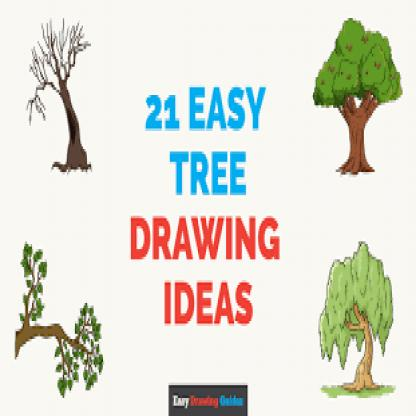branch_cut: (336, 84, 380, 130)
crown_cloud: (312, 14, 404, 109)
root_only: (336, 162, 376, 181)
trunk_straight: (348, 132, 368, 160)
